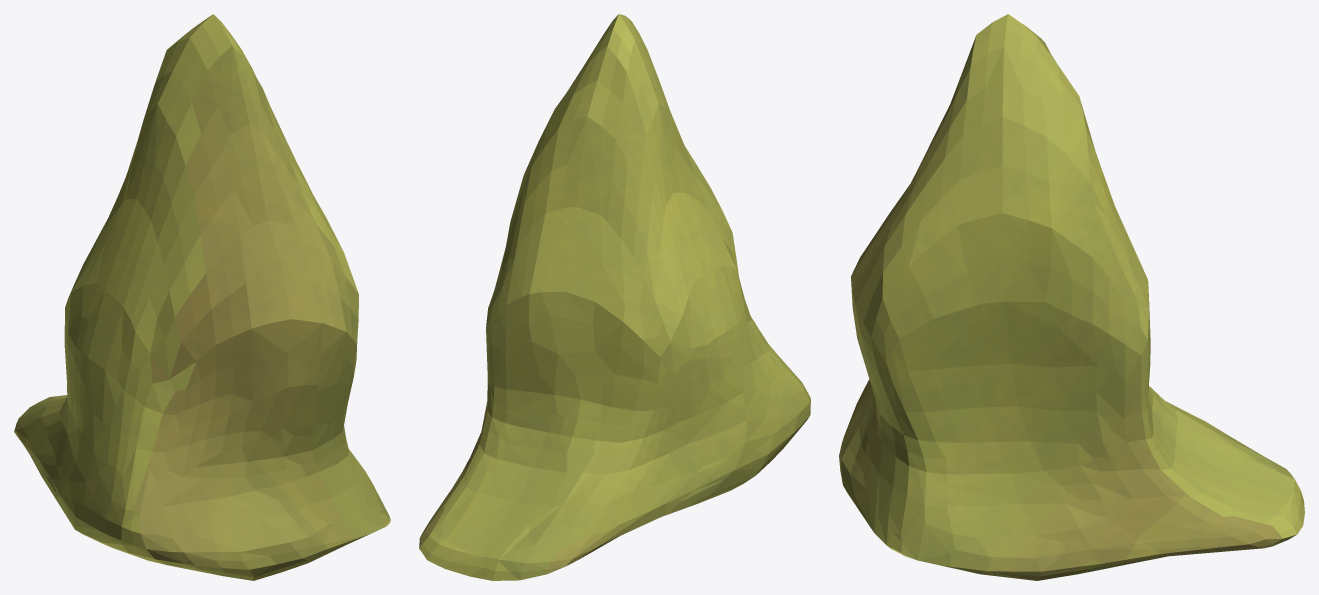
The model's file is spikyRock4.fbx.
3 views of the same model, side by side, from view 1: azimuth 30°, elevation 25°; view 2: azimuth 150°, elevation 25°; view 3: azimuth 270°, elevation 25° (orthographic). The views are drawn at different scales.
Parts seen in each view (by area): view 1: Cube; view 2: Cube; view 3: Cube.
Boxes of the visible parts, x1,y1,x2,y2 form: Cube: (14, 14, 390, 580); Cube: (419, 14, 810, 580); Cube: (839, 14, 1304, 580).
Bounding box in the file's own units: 307 × 525 × 432.
